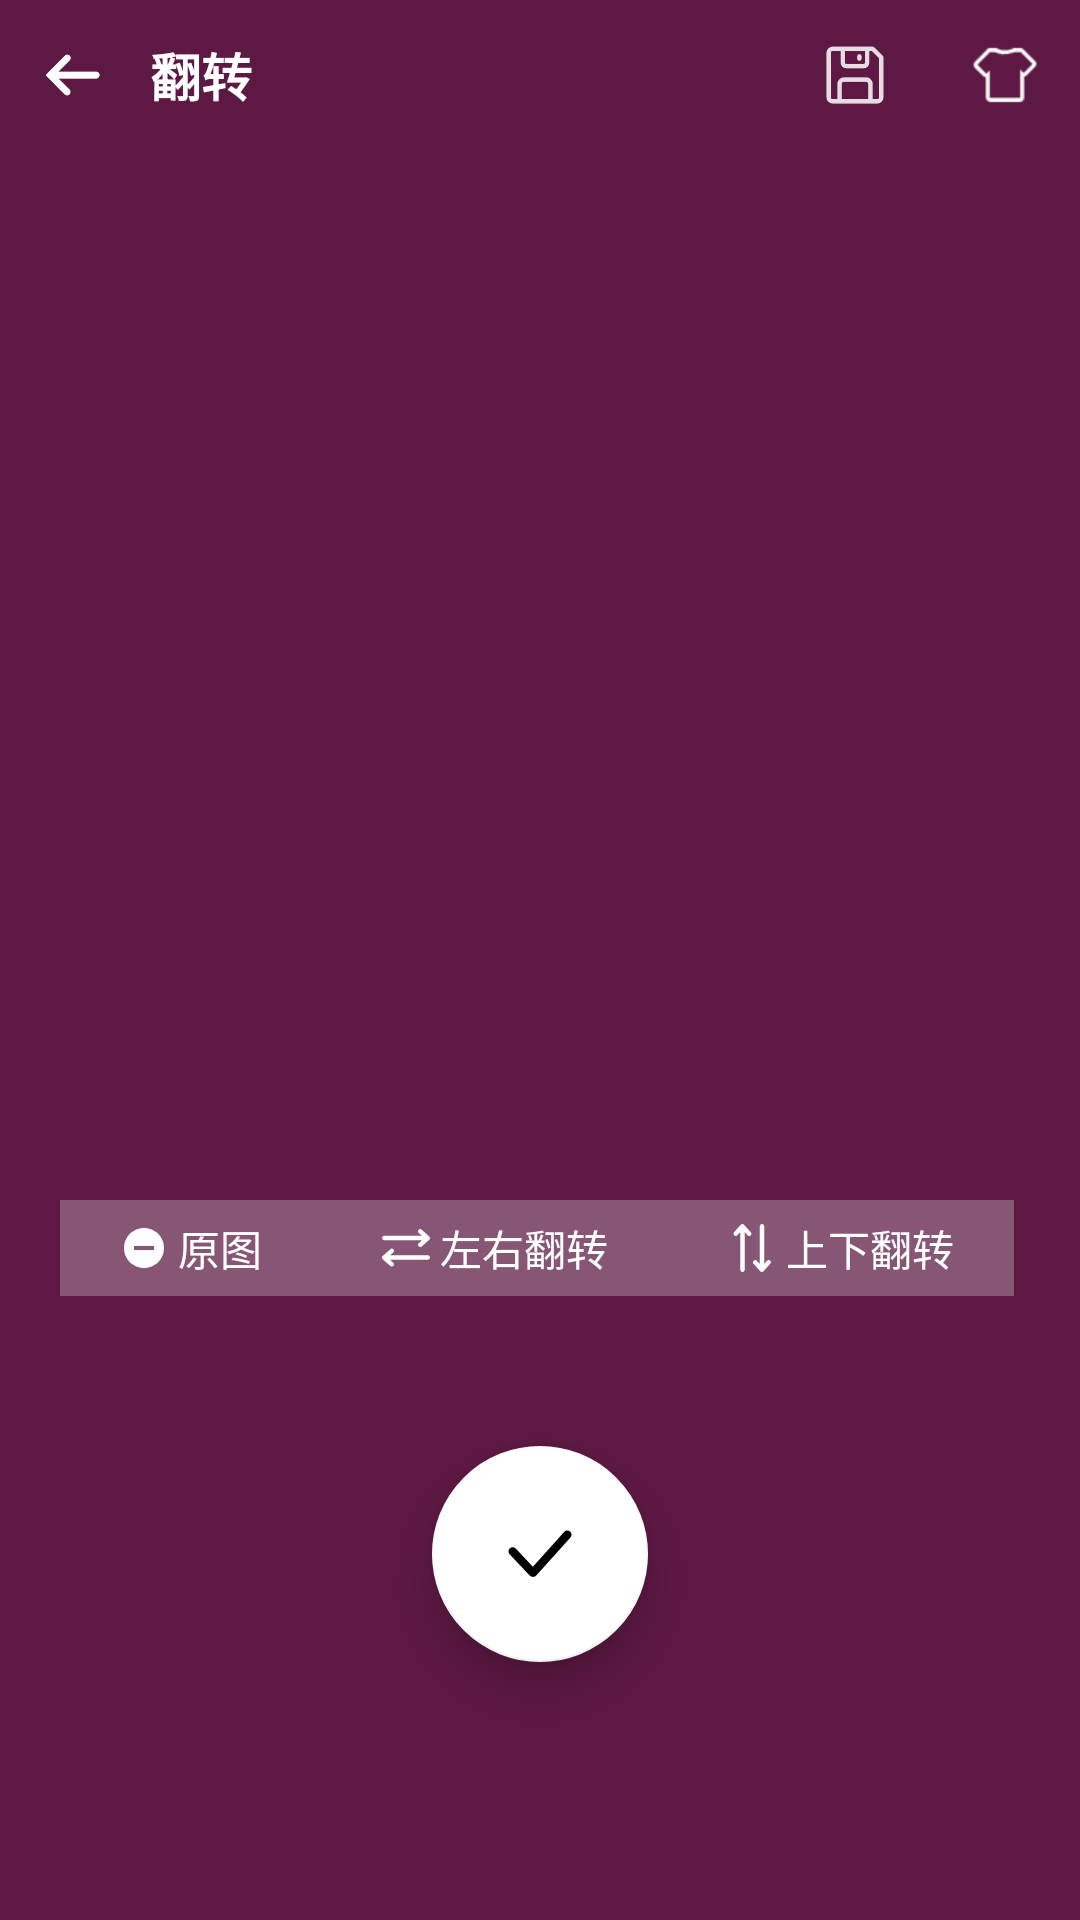

Icon click points for this 1080×1920 phone screenshot, format point (x, y):
arrow back: point (73, 75)
cache: point (855, 75)
clothes: point (1005, 75)
confirm right: point (540, 1554)
